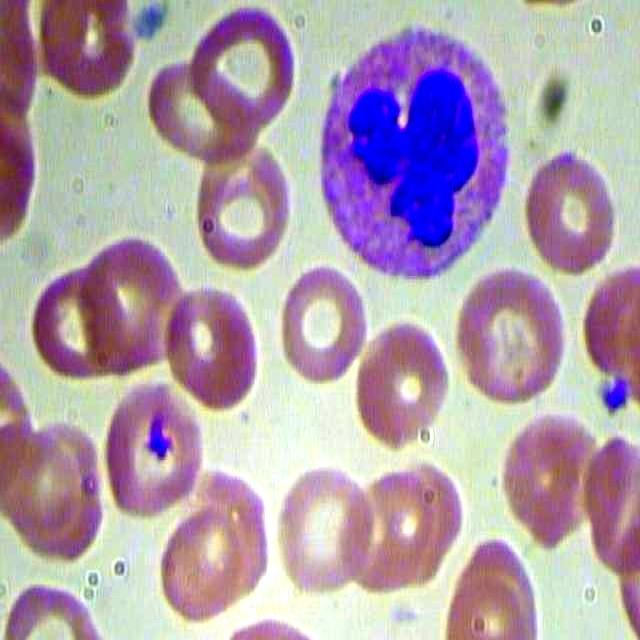Platelets: (592, 369, 630, 419)
RBC: (447, 264, 568, 412), (183, 126, 304, 274), (496, 405, 600, 547), (157, 493, 261, 635), (164, 268, 268, 409), (90, 228, 194, 369), (271, 451, 375, 592), (104, 380, 208, 521), (1, 415, 104, 556), (191, 1, 295, 140), (278, 261, 366, 388), (359, 319, 447, 445), (523, 147, 611, 273)
WBC: (305, 18, 521, 286)
